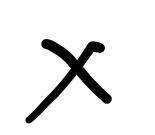mult: (25, 36, 111, 120)
